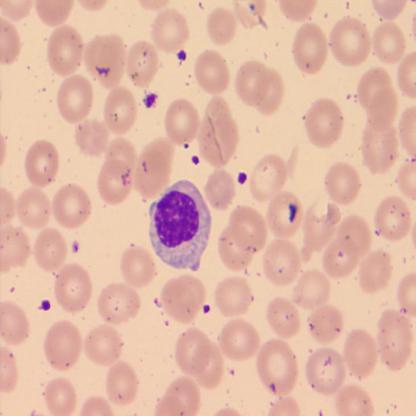Metamyelocyte: (147, 178, 213, 276)
